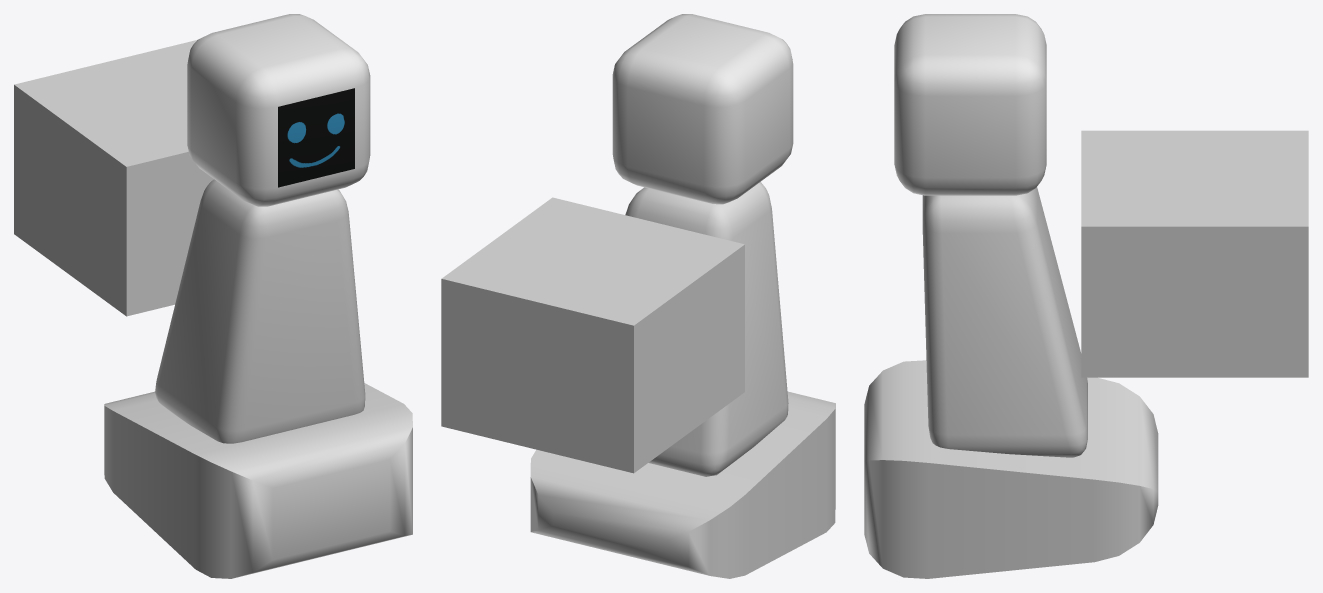
Rendered from DeliveryRobot.fbx.
3 renders of one model, left to right at view 1: azimuth 30°, elevation 25°; view 2: azimuth 150°, elevation 25°; view 3: azimuth 270°, elevation 25°, orthographic. The views are drawn at different scales.
Visible parts, largest first — view 1: Body, Wheels, DeliveryBox, Head; view 2: DeliveryBox, Wheels, Head, Body; view 3: DeliveryBox, Wheels, Body, Head.
Part boxes in pixels (<box>): Body: <box>155,179,365,443</box>; Wheels: <box>104,383,412,578</box>; DeliveryBox: <box>14,40,213,316</box>; Head: <box>187,14,370,206</box>; DeliveryBox: <box>441,197,744,473</box>; Wheels: <box>530,391,835,578</box>; Head: <box>612,14,793,204</box>; Body: <box>625,182,788,476</box>; DeliveryBox: <box>1081,130,1308,377</box>; Wheels: <box>864,360,1158,578</box>; Body: <box>922,187,1087,457</box>; Head: <box>894,14,1046,195</box>.
Size of the model in its own units: 43.98 by 98.24 by 80.4.
